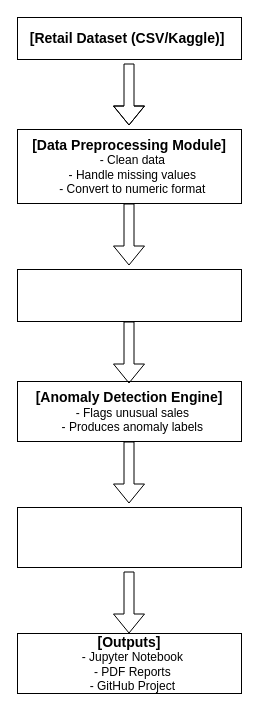
This 259x711 diagram has some shape labels left out. Each missing label, with the centre of its shape:
[ML Model: Isolation Forest]: (x=129, y=295)
[Visualization Layer] - Matplotlib graphs - Plotly interactive chart: (x=129, y=537)
